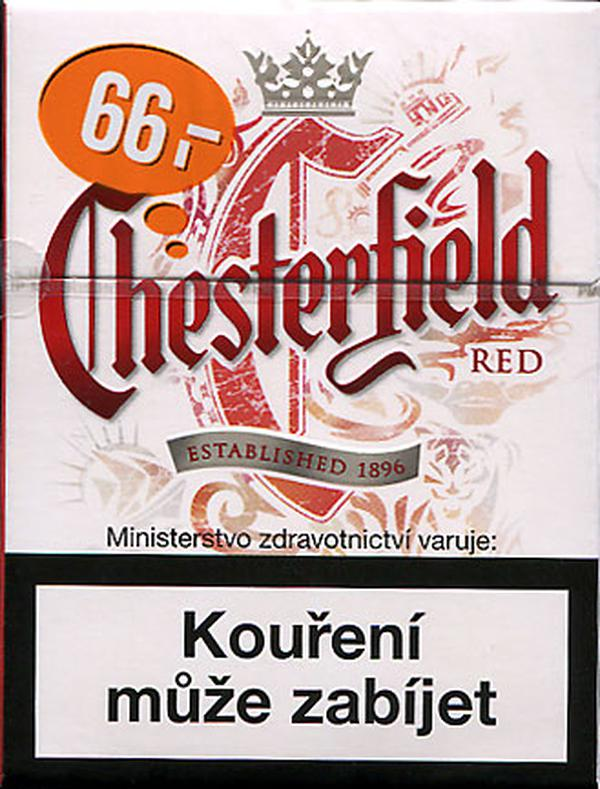chesterfield_red: (5, 3, 599, 779)
